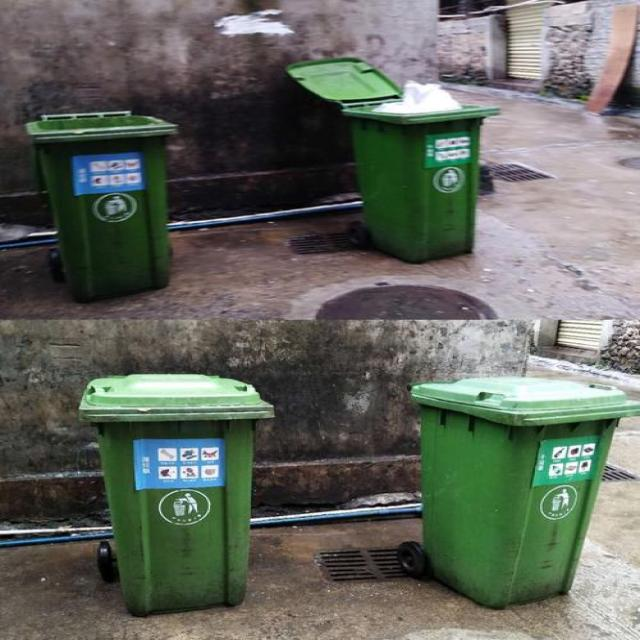garbage_bin: (408, 374, 639, 607), (75, 372, 272, 614), (20, 110, 176, 301)
overflow: (342, 80, 503, 262)
